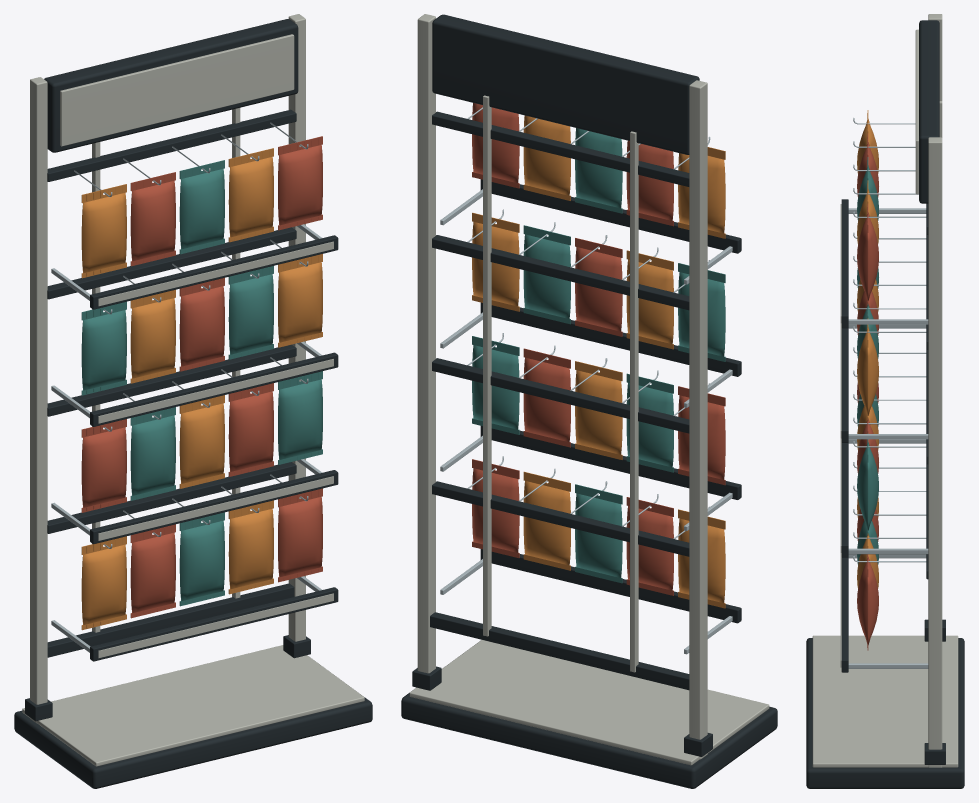
3 renders of one model, left to right at view 1: azimuth 30°, elevation 25°; view 2: azimuth 150°, elevation 25°; view 3: azimuth 270°, elevation 25°, orthographic. The views are drawn at different scales.
Parts seen in each view (by area): view 1: BATCH_Powdercoat, BATCH_Plainbagfilm, BATCH_Satinsteel; view 2: BATCH_Powdercoat, BATCH_Plainbagfilm, BATCH_Satinsteel; view 3: BATCH_Powdercoat, BATCH_Plainbagfilm, BATCH_Satinsteel.
Part boxes in pixels (bbox=[...]): BATCH_Powdercoat: bbox=[14, 14, 372, 788]; BATCH_Plainbagfilm: bbox=[81, 136, 322, 630]; BATCH_Satinsteel: bbox=[51, 122, 322, 652]; BATCH_Powdercoat: bbox=[401, 14, 777, 788]; BATCH_Plainbagfilm: bbox=[472, 103, 725, 608]; BATCH_Satinsteel: bbox=[440, 107, 732, 654]; BATCH_Powdercoat: bbox=[806, 14, 964, 788]; BATCH_Plainbagfilm: bbox=[857, 110, 878, 650]; BATCH_Satinsteel: bbox=[848, 118, 928, 668].
Size of the model in its own units: 0.8 by 1.8 by 0.4.
